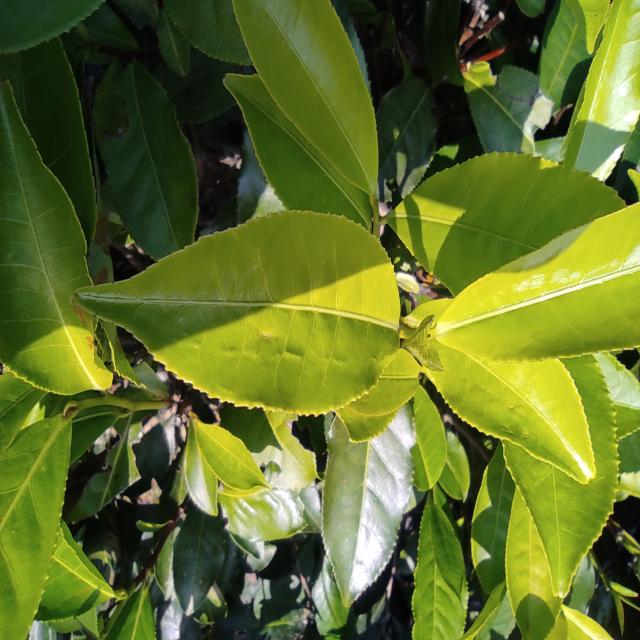Category C(4-7 days): (56, 177, 418, 460)
